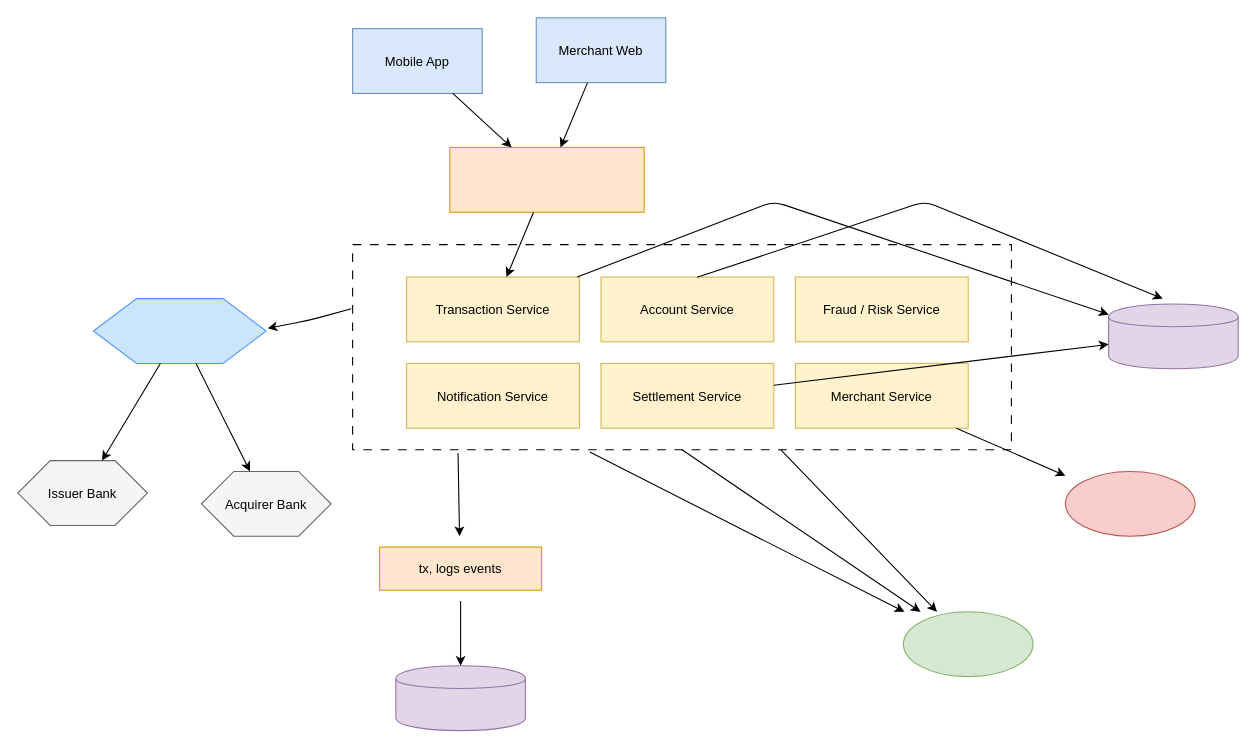
Some shapes in this 1256 by 748 pixel diagram are drawn without their labels. Here are the shapes that lost their labels. From the top down, the box of each, then its label:
(449, 146, 644, 212): API Gateway / WAF
(92, 298, 266, 363): NPCI UPI Switch
(1108, 303, 1238, 369): MySQL (Core DB)
(1064, 470, 1195, 536): Redis Cache
(902, 611, 1033, 677): Kafka (Events)
(395, 665, 525, 731): NoSQL (Profiles)
